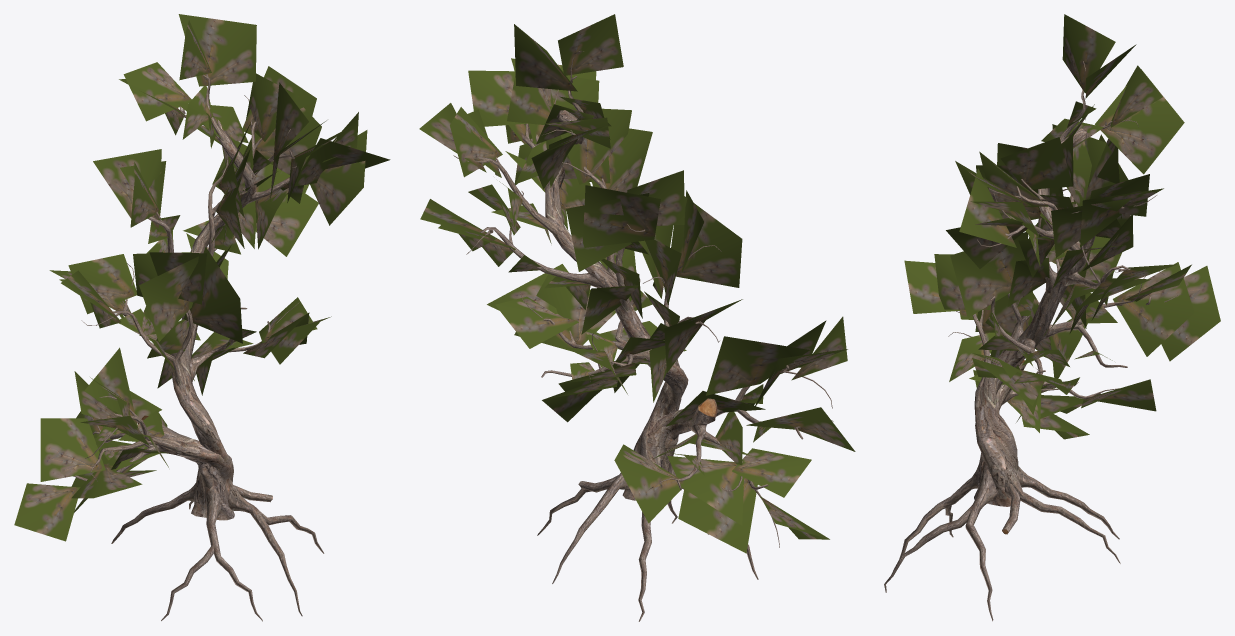
The model's file is old_tree.glb.
3 renders of one model, left to right at view 1: azimuth 30°, elevation 25°; view 2: azimuth 150°, elevation 25°; view 3: azimuth 270°, elevation 25°, orthographic. The views are drawn at different scales.
Parts seen in each view (by area): view 1: Tree_2, Tree_0; view 2: Tree_2, Tree_0; view 3: Tree_2, Tree_0.
Part boxes in pixels (x1,y1,x2,y2): Tree_2: (14, 14, 390, 541); Tree_0: (73, 51, 336, 621); Tree_2: (419, 14, 855, 553); Tree_0: (453, 51, 833, 621); Tree_2: (904, 14, 1220, 439); Tree_0: (884, 61, 1182, 621).
Size of the model in its own units: 5.71 by 8.58 by 4.65.
3 materials, 3 textured.
